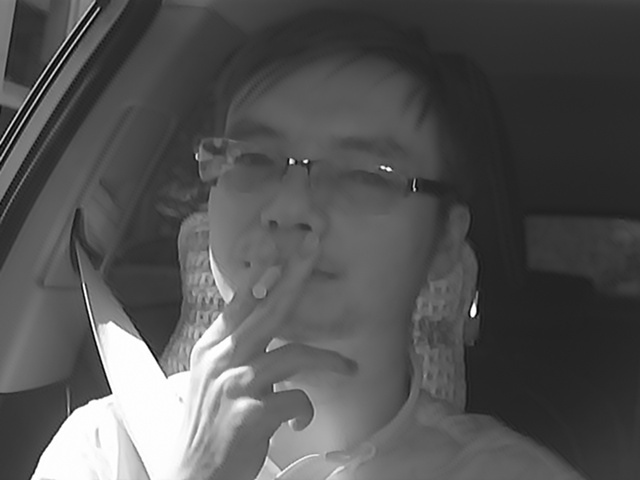hand: (175, 235, 363, 466)
